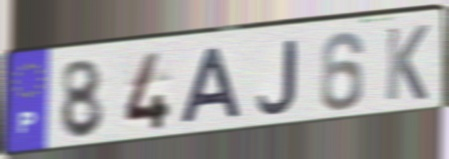4: (123, 48, 173, 133)
6: (318, 28, 366, 114)
8: (59, 57, 108, 141)
A: (178, 44, 246, 128)
J: (254, 37, 299, 117)
K: (383, 22, 431, 104)
